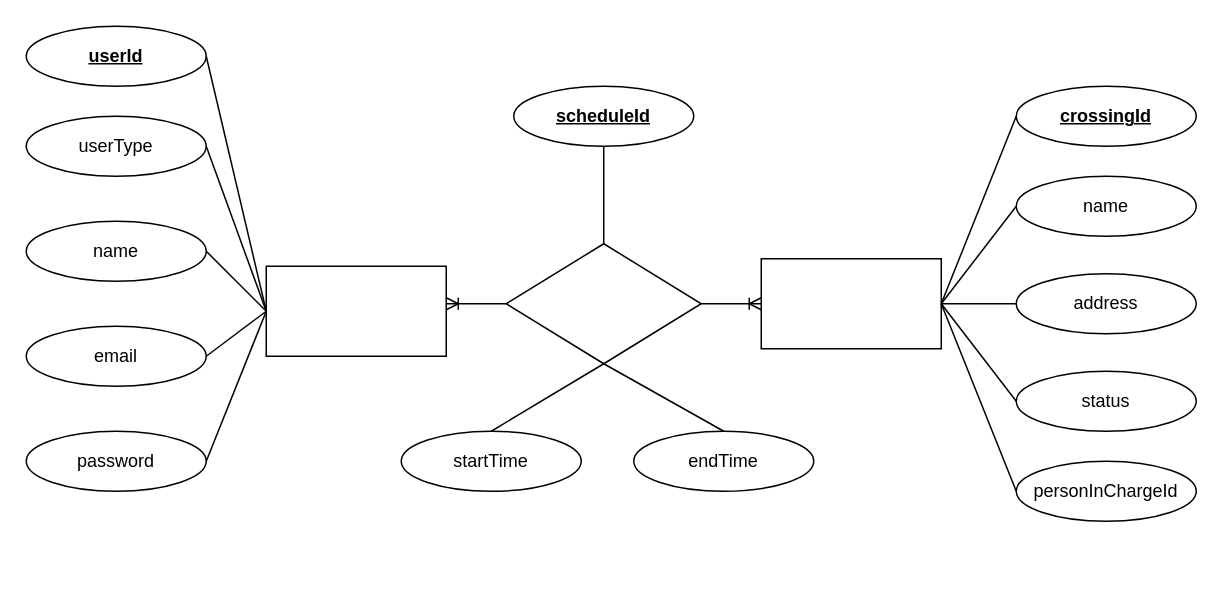
This 1223x593 diagram has some shape labels left out. The box of each missing label's shape, as (x1, y1, x2, y2) in pixels:
Accesses/Schedules: (505, 242, 701, 364)
Railway Crossings: (760, 257, 941, 349)
User: (265, 265, 446, 356)
